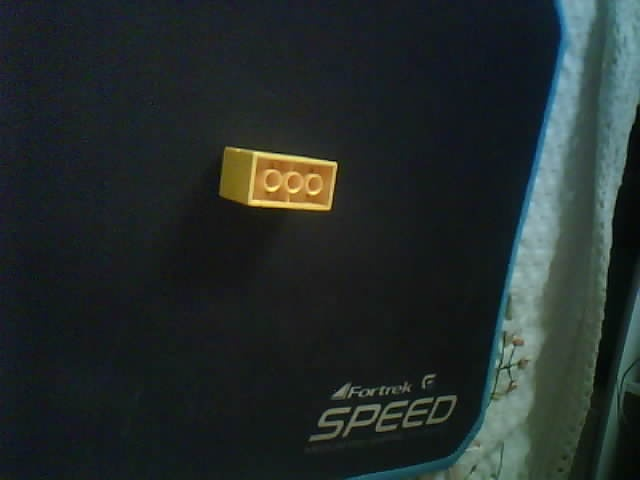lego: (217, 142, 337, 215)
